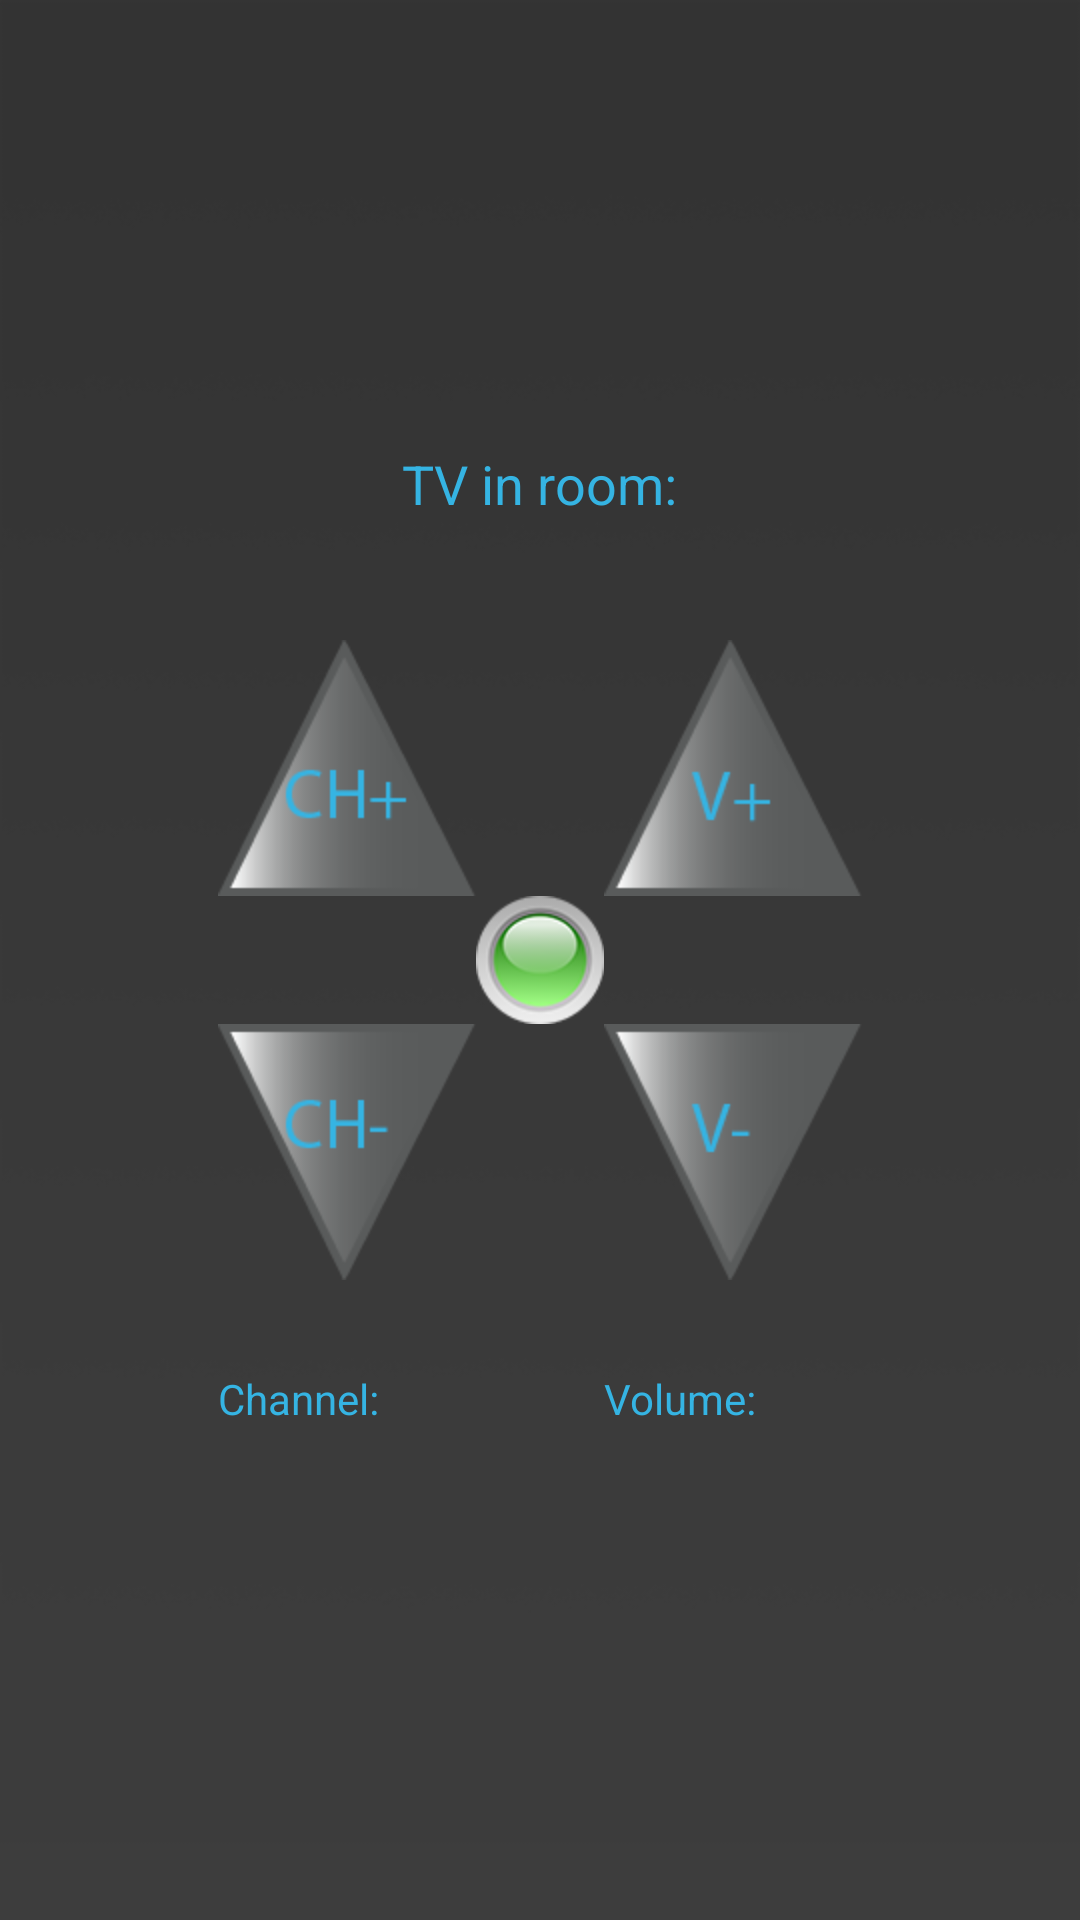

Point at icon controls on the screen. Image size 1080 × 1920, points as (x=x, y=y).
Power button: (x=540, y=960)
